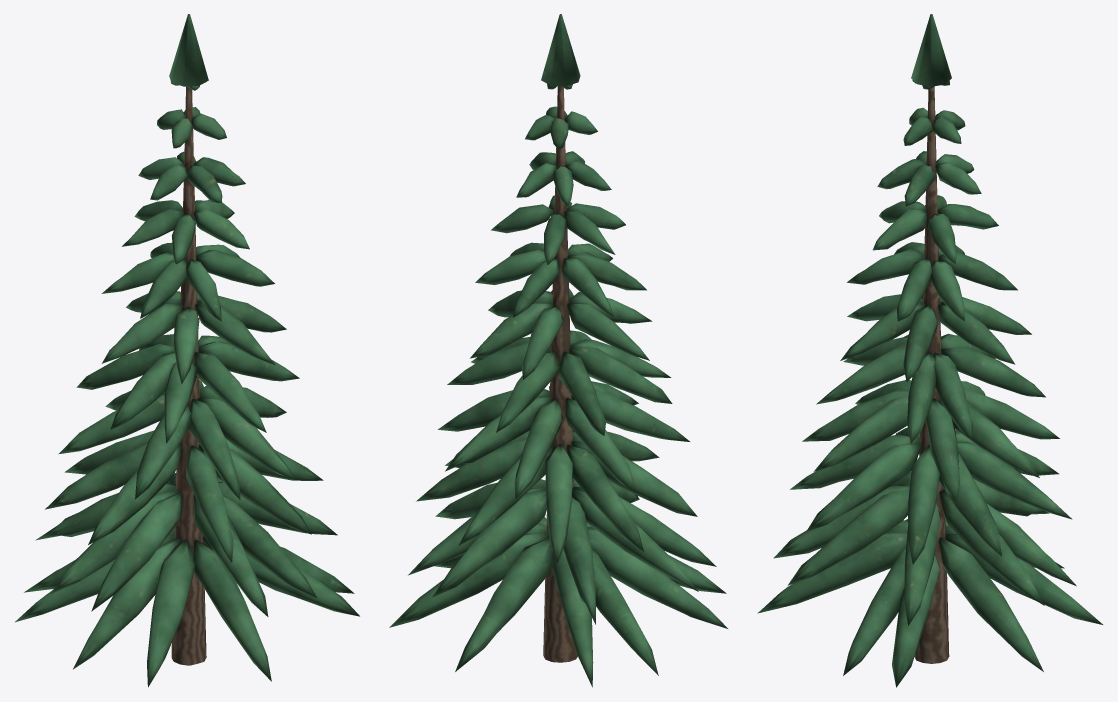
Rendered from pine.glb.
The picture shows the model from 3 angles, left to right: view 1: azimuth 30°, elevation 25°; view 2: azimuth 150°, elevation 25°; view 3: azimuth 270°, elevation 25°; orthographic projection.
Parts seen in each view (by area): view 1: pine; view 2: pine; view 3: pine.
Boxes of the visible parts, x1,y1,x2,y2 form: pine: (15,14,359,687); pine: (389,14,727,687); pine: (757,14,1102,687).
Bounding box in the file's own units: 5.72 × 12.11 × 5.92.
2 materials, 2 textured.
